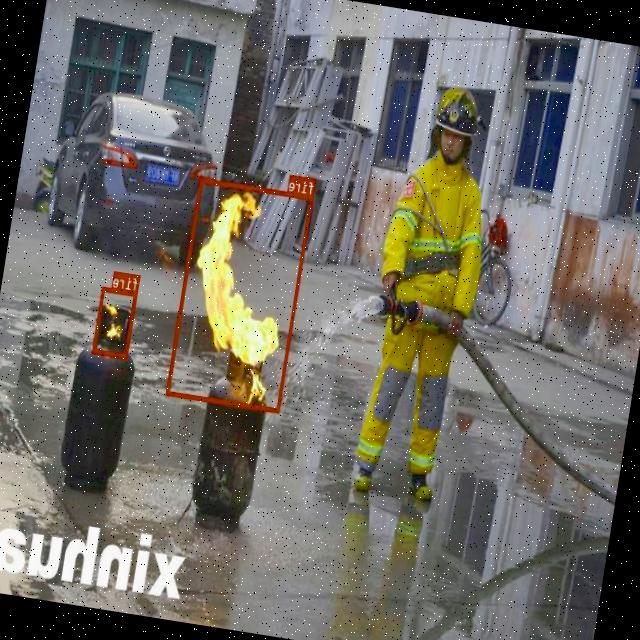fire: (166, 177, 314, 412), (92, 286, 138, 359)
